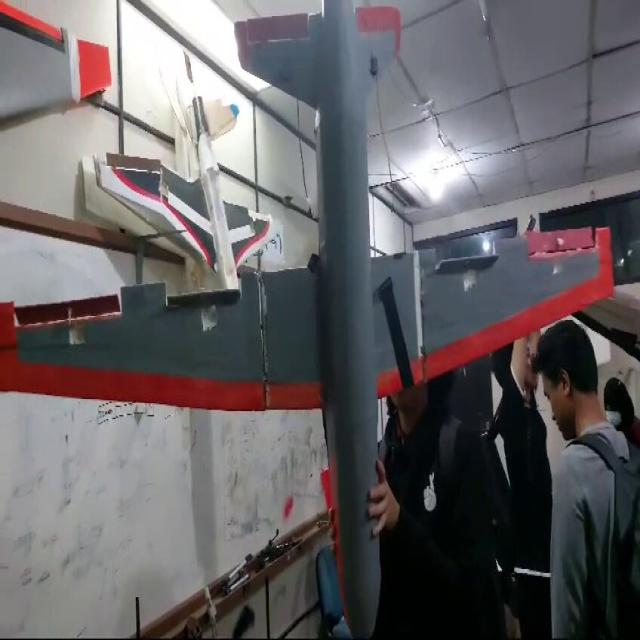plane: (0, 0, 625, 637)
